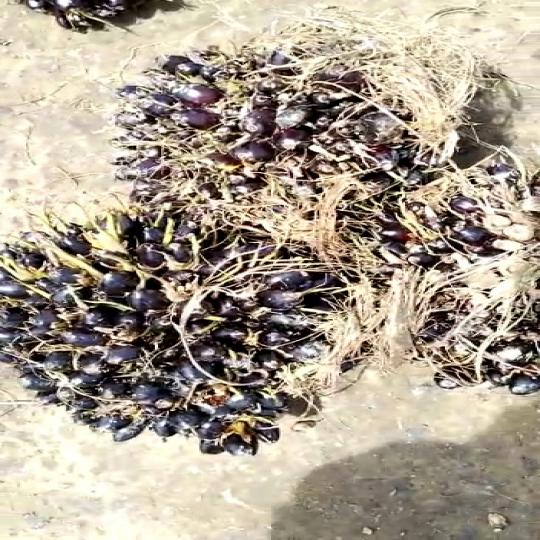mentah: (0, 197, 342, 461), (113, 45, 444, 229)
